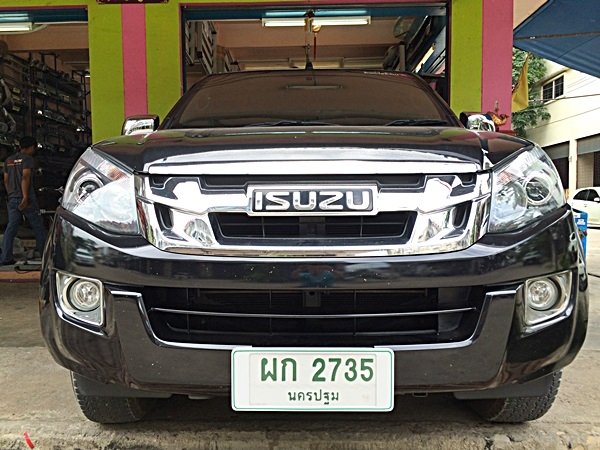Non-Bangkok: (280, 385, 342, 406)
